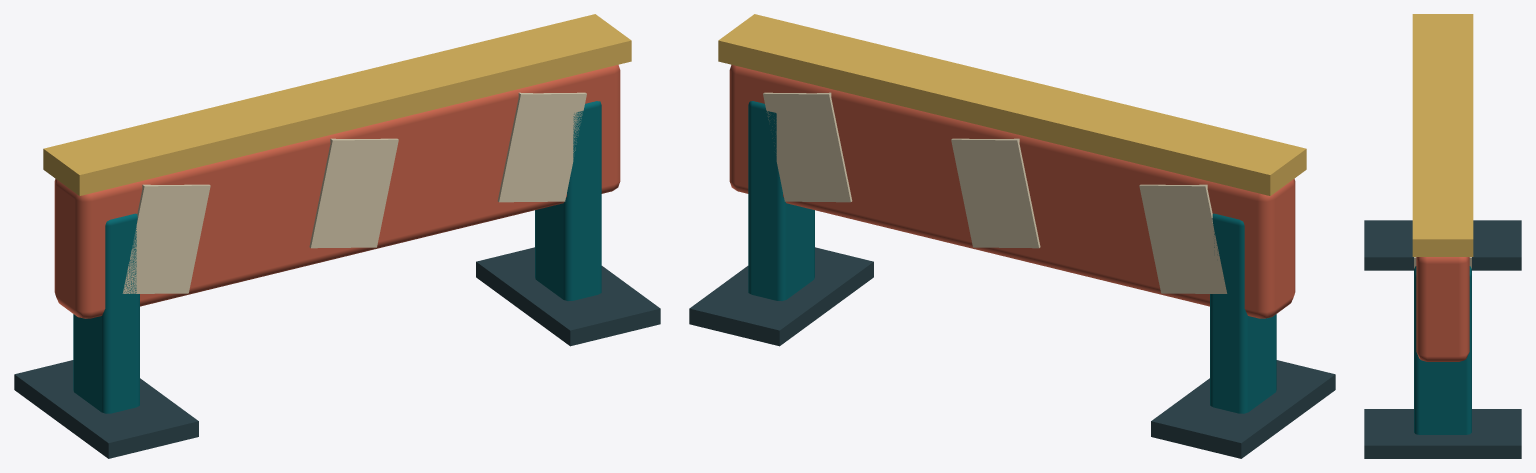
File: hurdle.glb
The picture shows the model from 3 angles, left to right: view 1: azimuth 30°, elevation 25°; view 2: azimuth 150°, elevation 25°; view 3: azimuth 270°, elevation 25°; orthographic projection. The views are drawn at different scales.
Parts seen in each view (by area): view 1: item-hurdle; view 2: item-hurdle; view 3: item-hurdle.
Boxes of the visible parts, bbox=[...] form: item-hurdle: bbox=[14, 14, 660, 458]; item-hurdle: bbox=[689, 14, 1335, 458]; item-hurdle: bbox=[1364, 14, 1521, 458].
Size of the model in its own units: 2.2 by 1 by 0.65.
